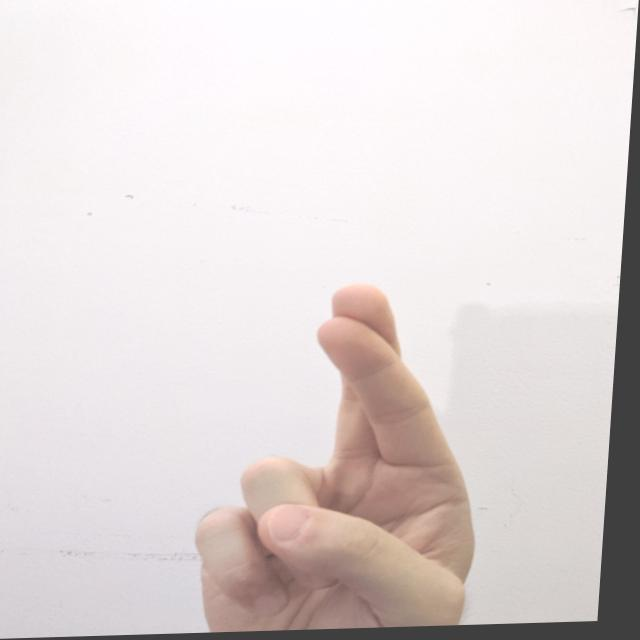R: (190, 276, 514, 634)
